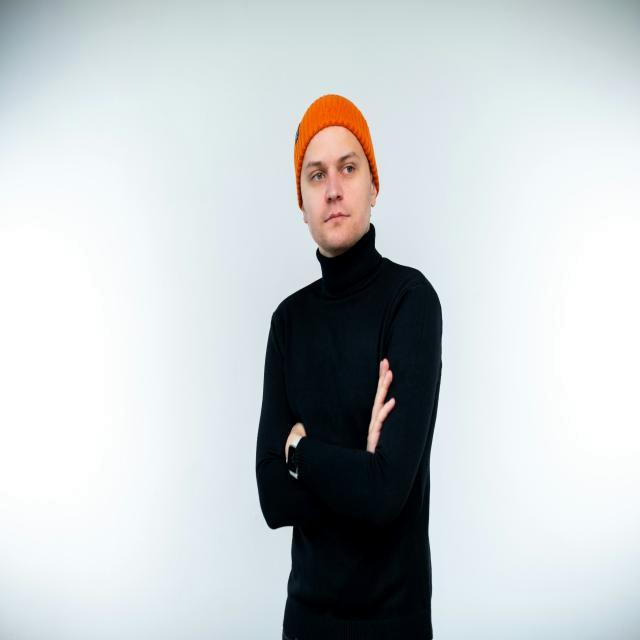no_hard_hat: (294, 95, 379, 209)
person: (256, 95, 442, 640)
